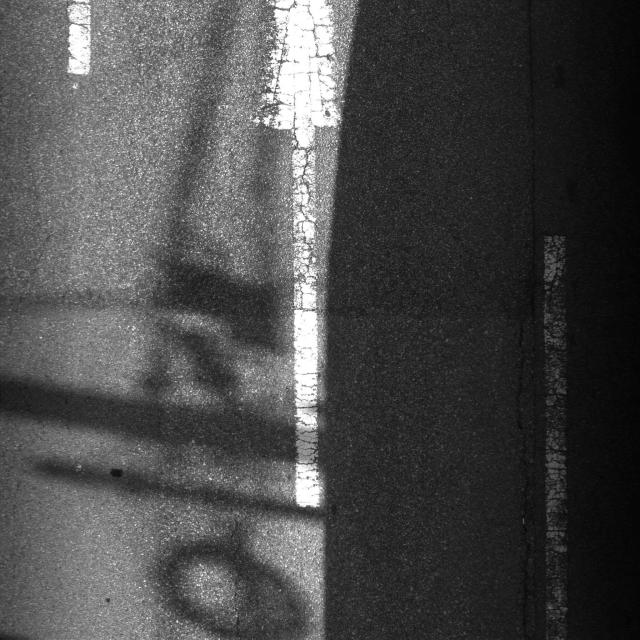forward: (61, 0, 571, 522)
